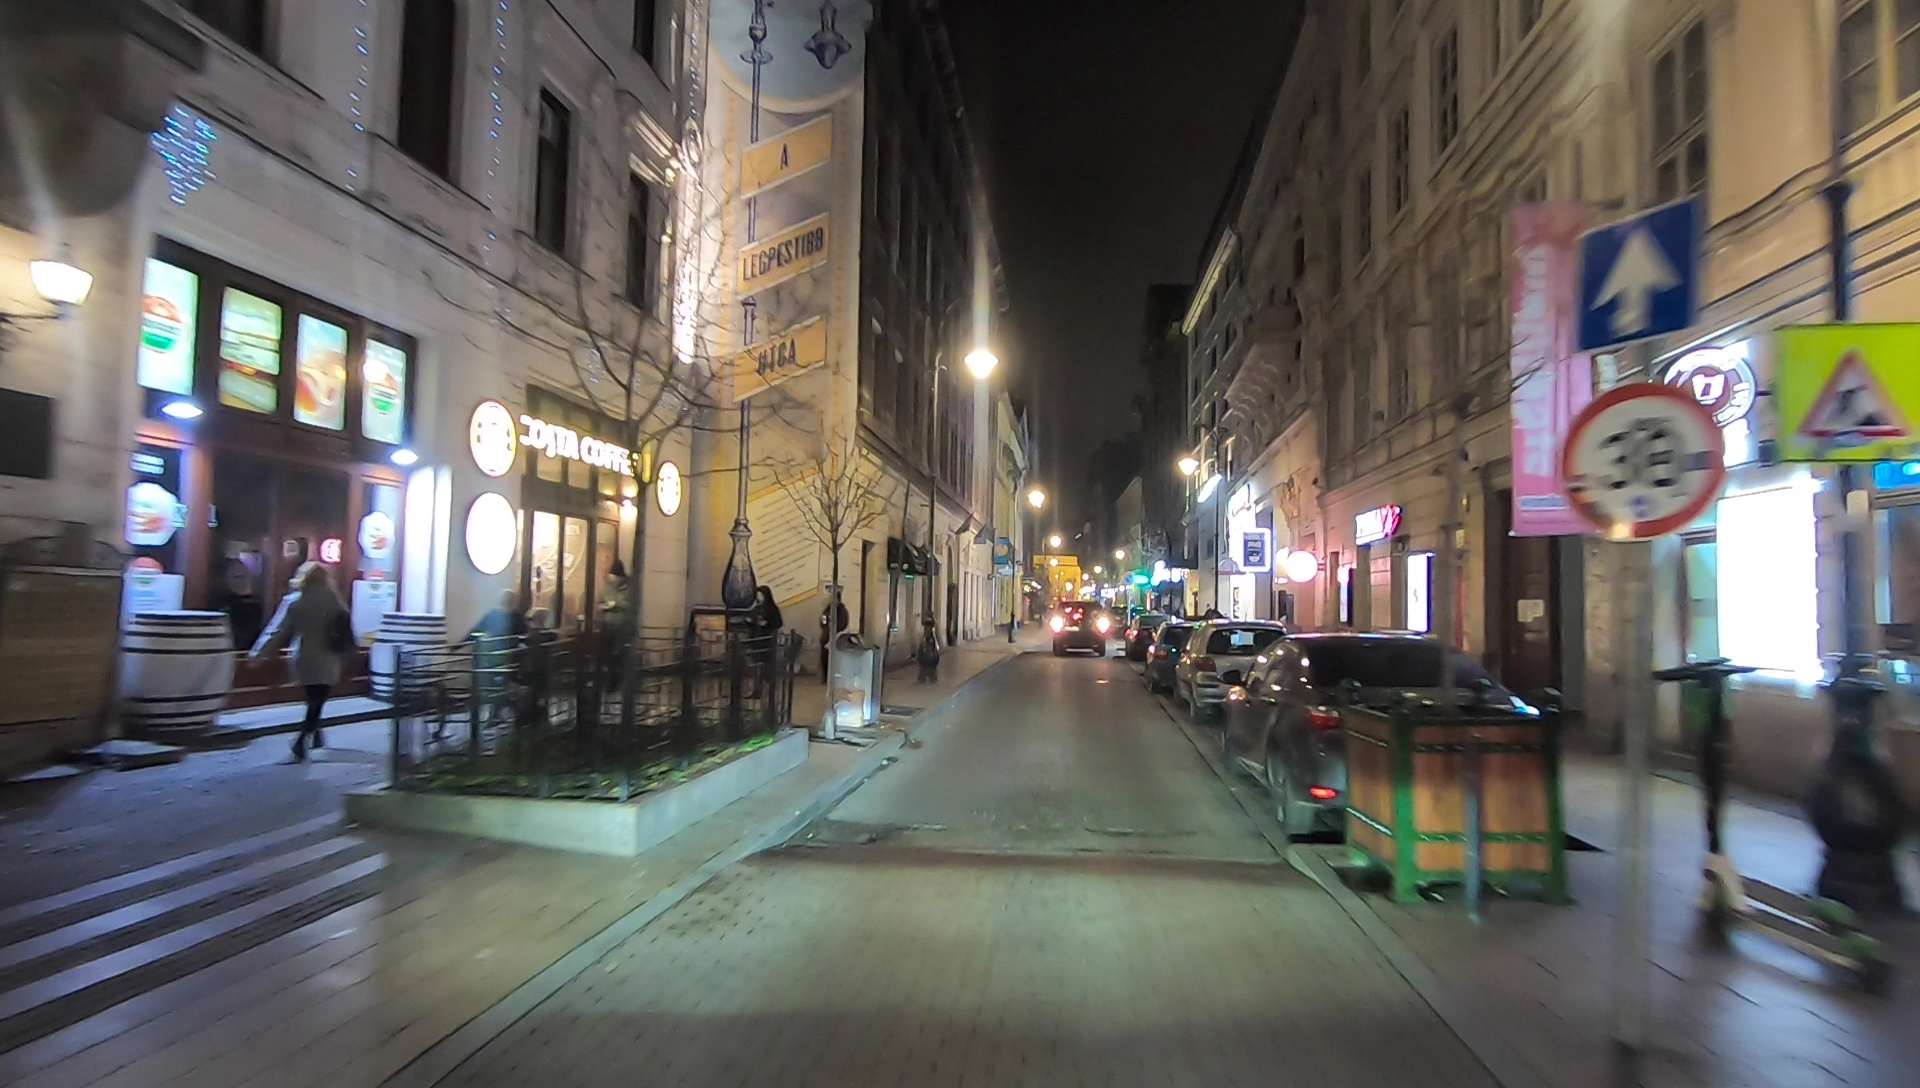person: (267, 560, 349, 750), (473, 586, 532, 713), (749, 584, 782, 693), (602, 567, 634, 654)
